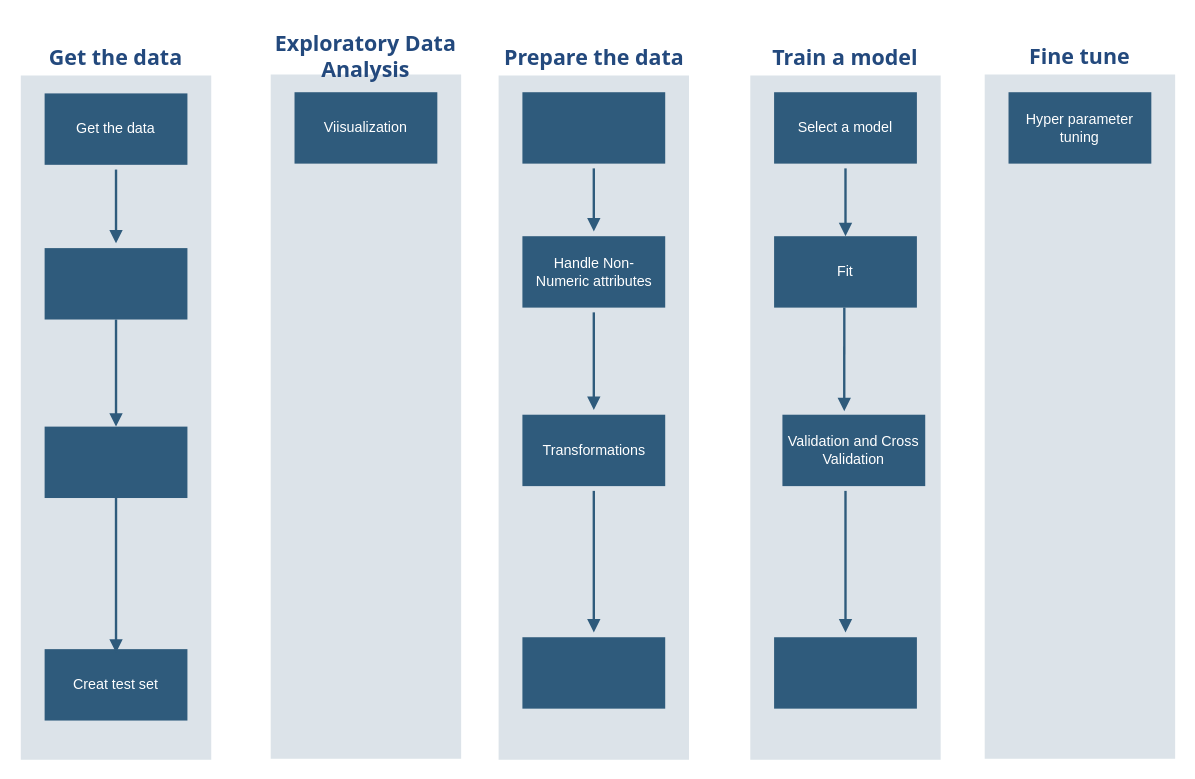
Some shapes in this 1195 by 779 pixel diagram are drawn without their labels. The centre of each missing label's shape, as x and y in pixels:
"Cleaning" goes at (x=593, y=127).
"Define Performance Measure" goes at (x=115, y=461).
"Error Analysis" goes at (x=845, y=672).
"Have a look" goes at (x=115, y=283).
"Scaling" goes at (x=593, y=672).
